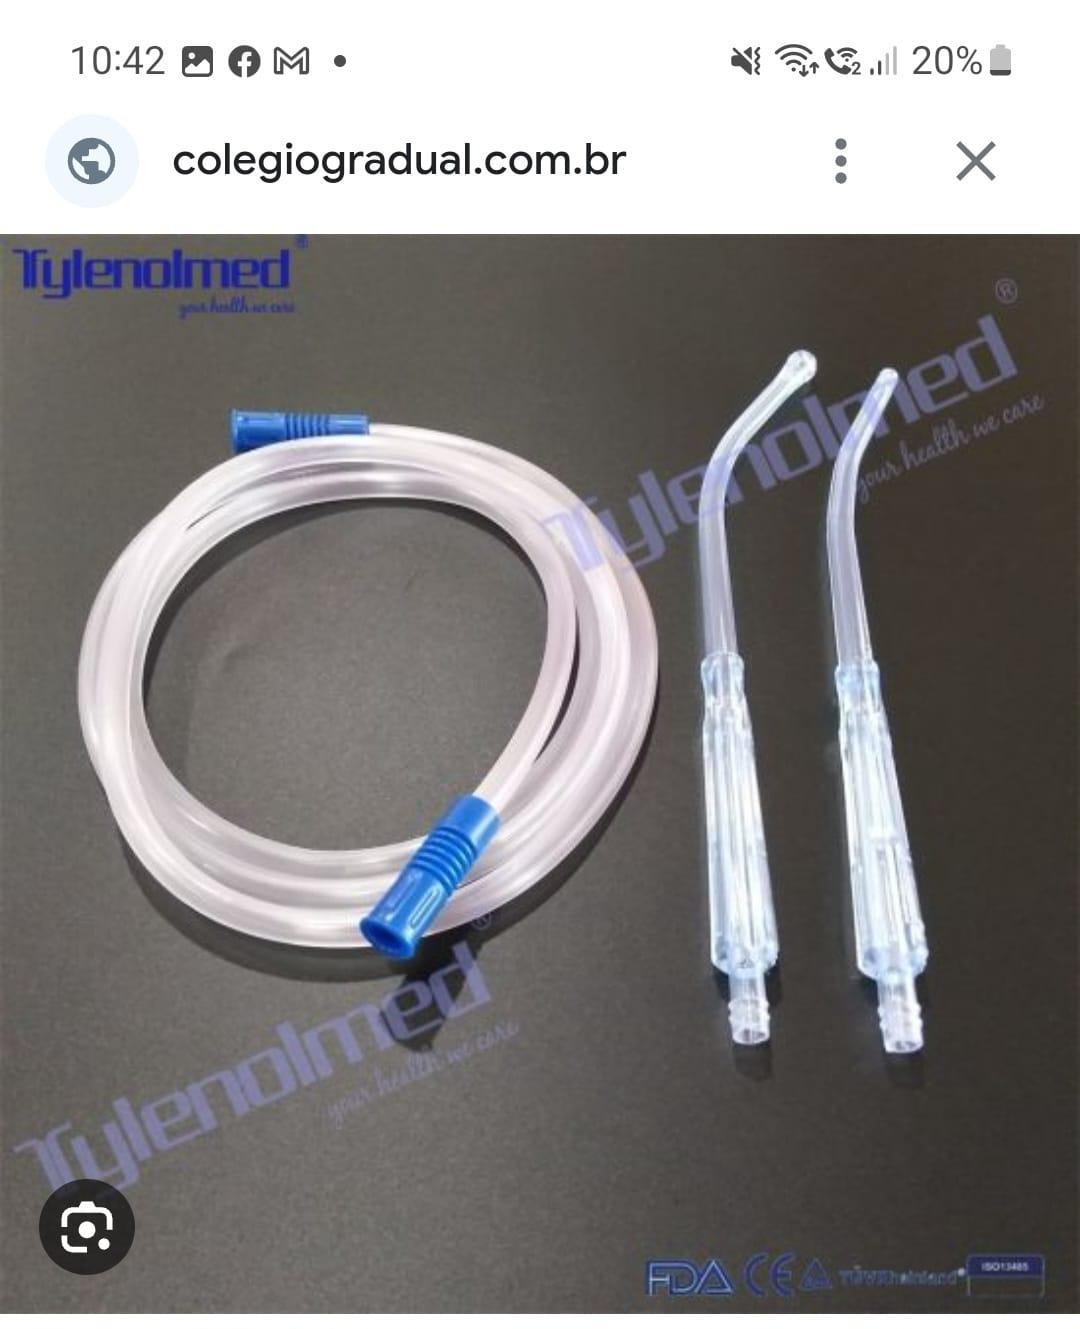Suction Tube Nozzle: (64, 350, 822, 1062)
